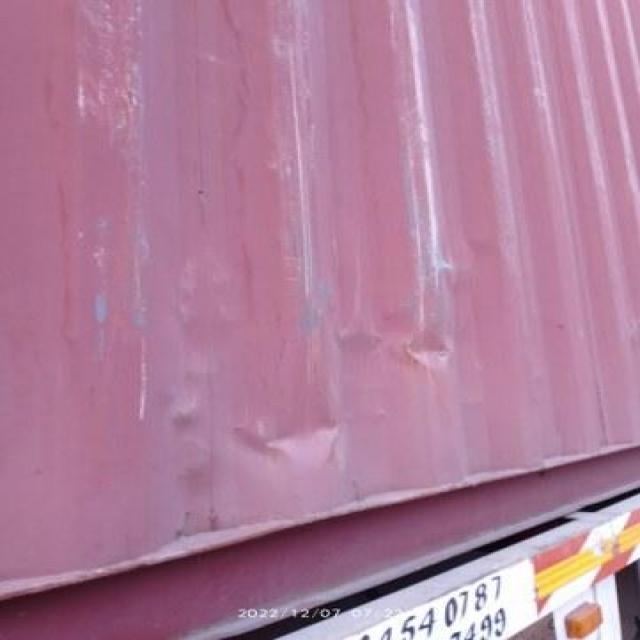Dent: (155, 391, 397, 487)
Minor-Dent: (389, 323, 475, 376)
